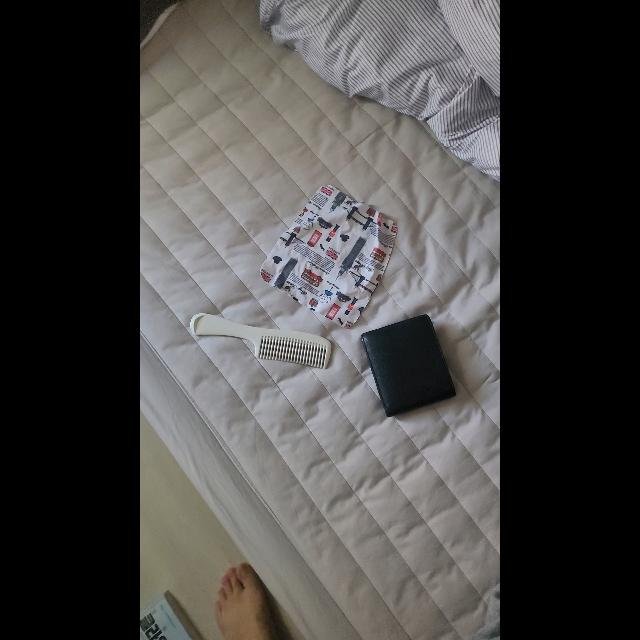COMB: (190, 314, 332, 370)
Glasses cleaning cloth: (259, 184, 396, 328)
WALLET: (362, 315, 456, 417)
